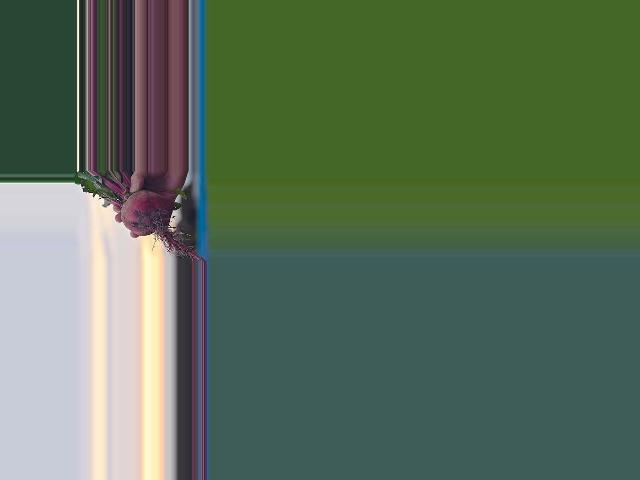beet: (74, 171, 204, 262)
